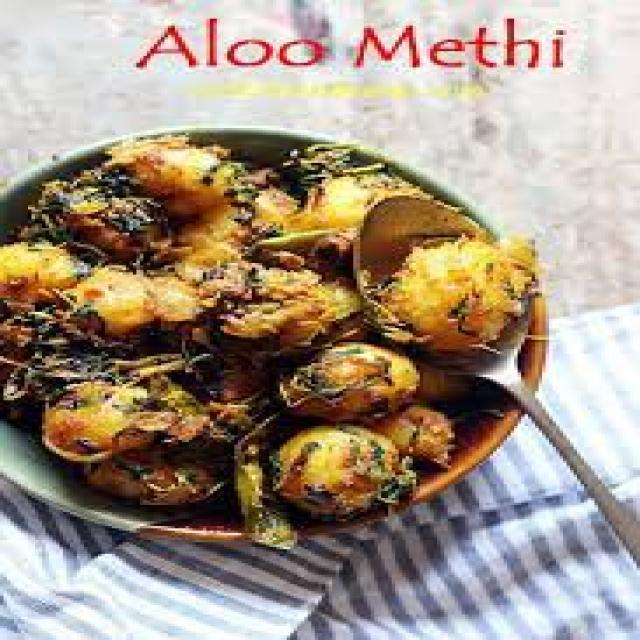Aloo Methi: (0, 130, 536, 533)
